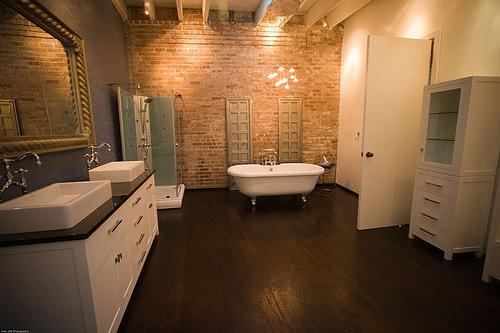Ducha: (117, 87, 183, 209)
Lavamanos: (0, 145, 114, 241), (81, 142, 153, 181)
